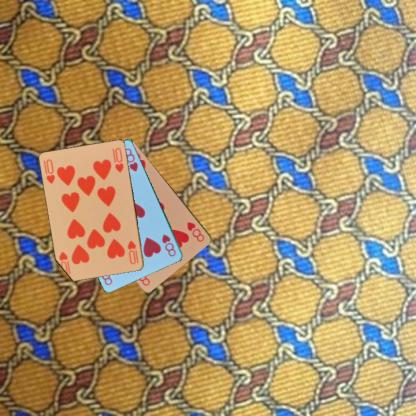10h: (125, 238, 140, 266), (44, 156, 57, 186)
8h: (184, 219, 206, 243), (160, 232, 178, 258)
